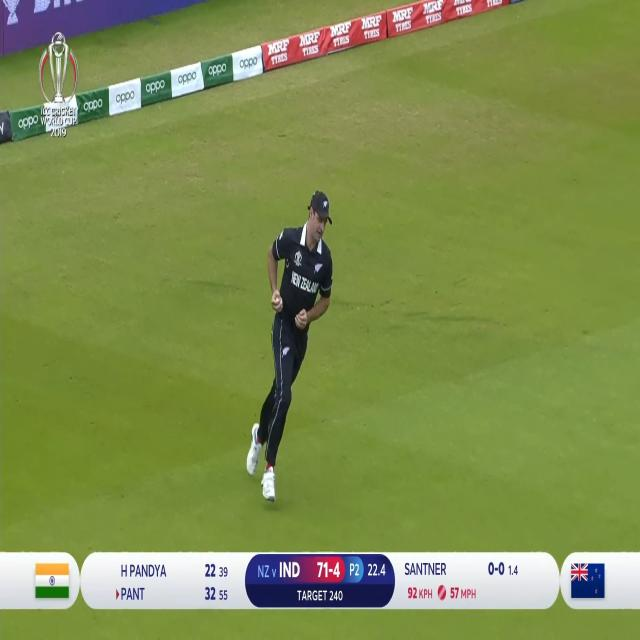ball: (276, 293, 284, 309)
